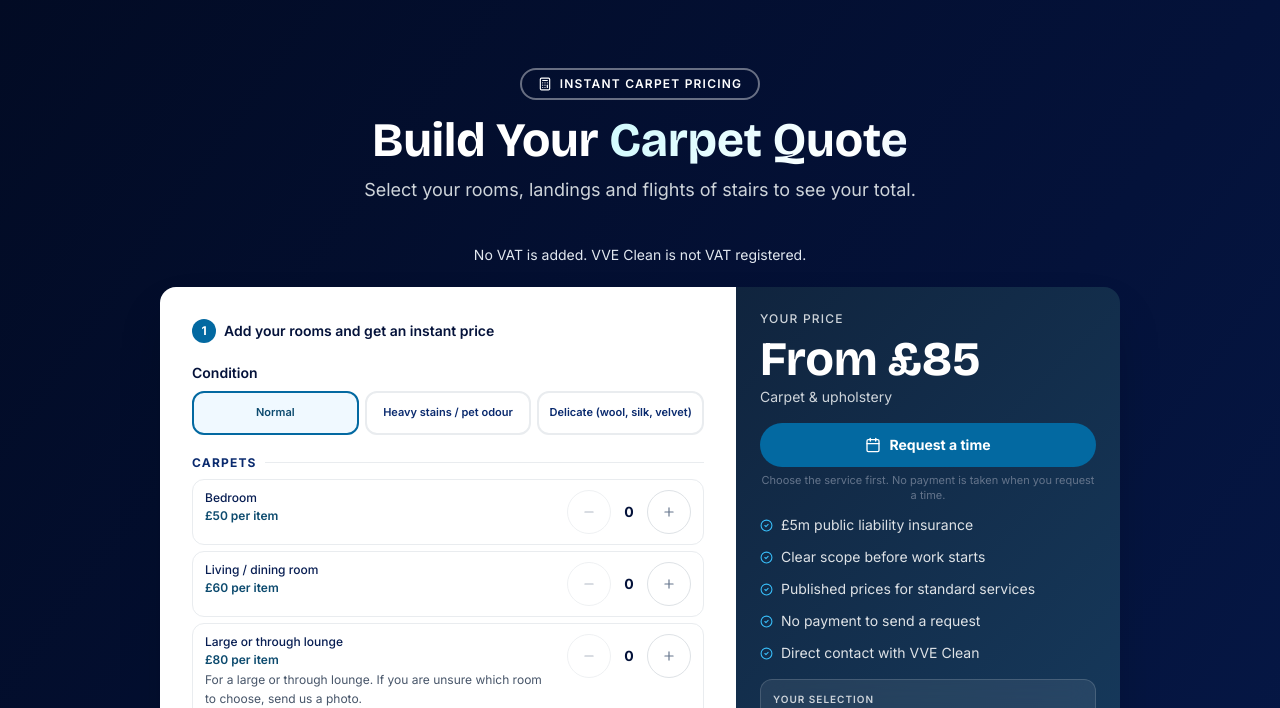
Test case: Carpet page quote — carpet plus upholstery › adds several upholstery items together
What coordinates should you click on to do the following:
click the button named "Increase Bedroom quantity"
I would click on:
 (669, 512)
Its box is 647,490 -> 691,534.
(page scrolled)
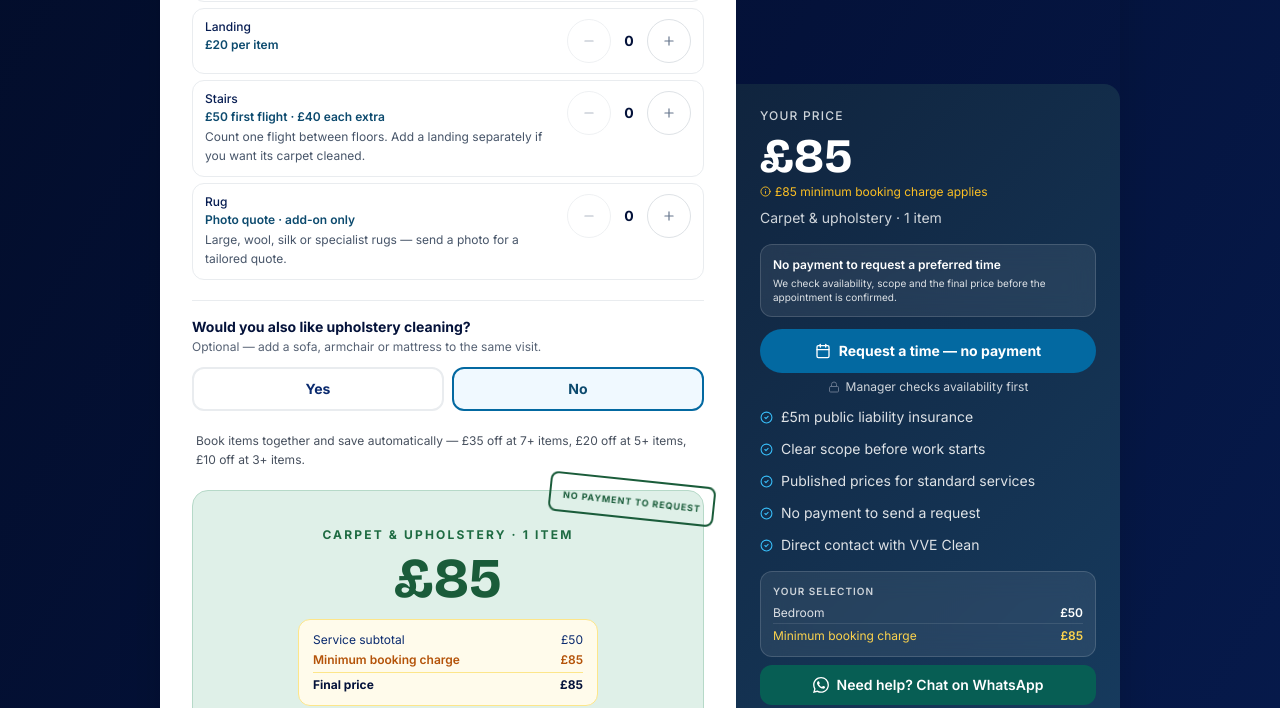
What coordinates should you click on to do the following:
click the button "Yes"
I would click on:
 (318, 389)
Its box is 192,367 -> 444,411.
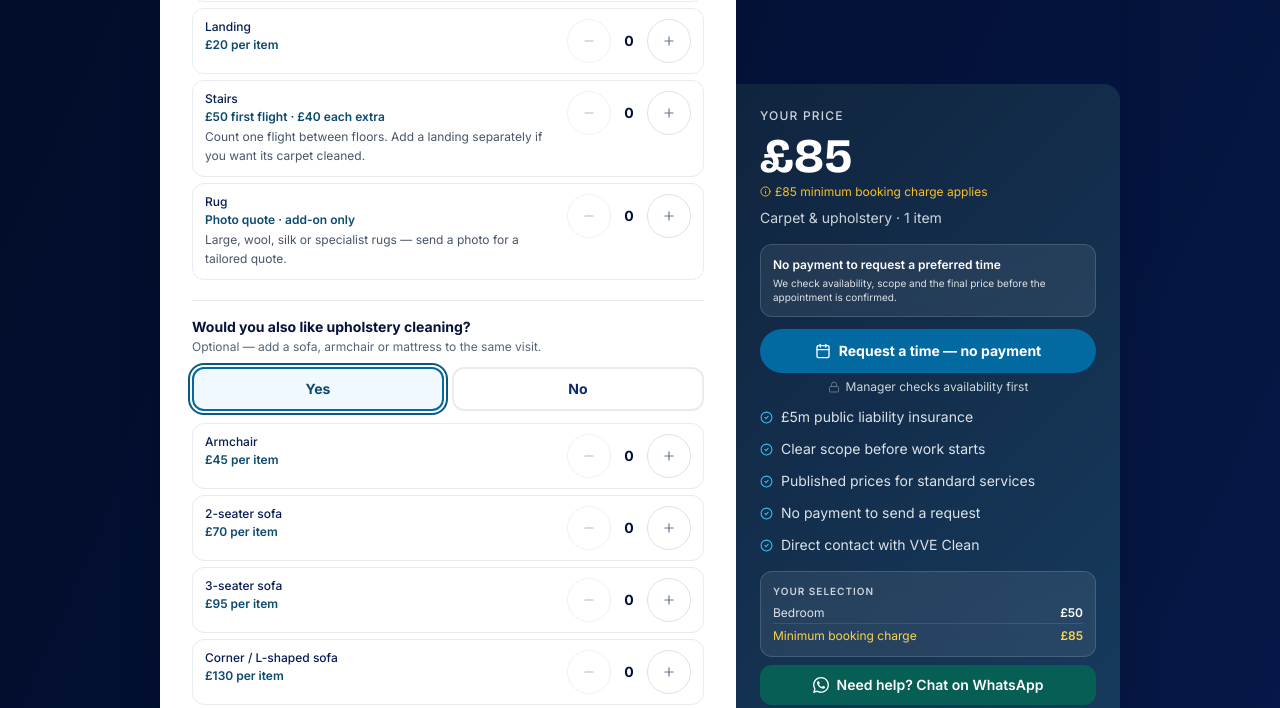
What coordinates should you click on to do the following:
click the button named "Increase Armchair quantity"
I would click on:
 (669, 456)
Its box is 647,434 -> 691,478.
(page scrolled)
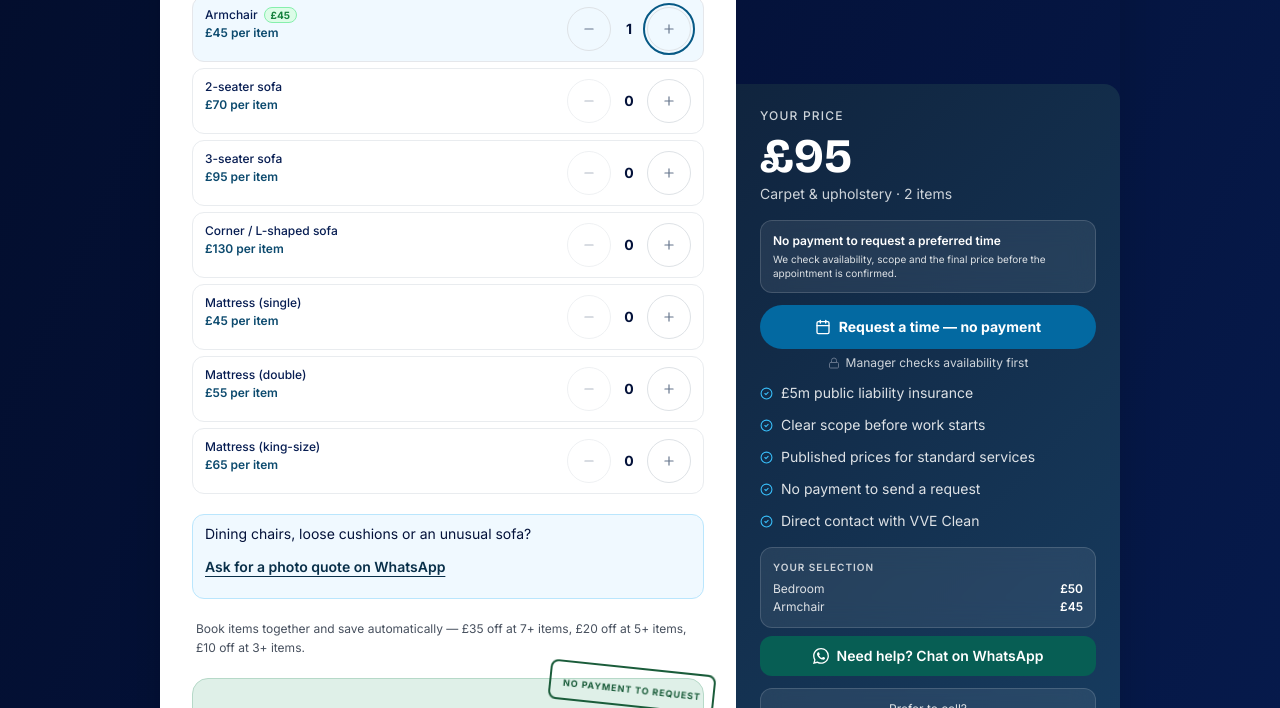
What coordinates should you click on to do the following:
click the button named "Increase Mattress (double) quantity"
I would click on:
 (669, 389)
Its box is 647,367 -> 691,411.
(page scrolled)
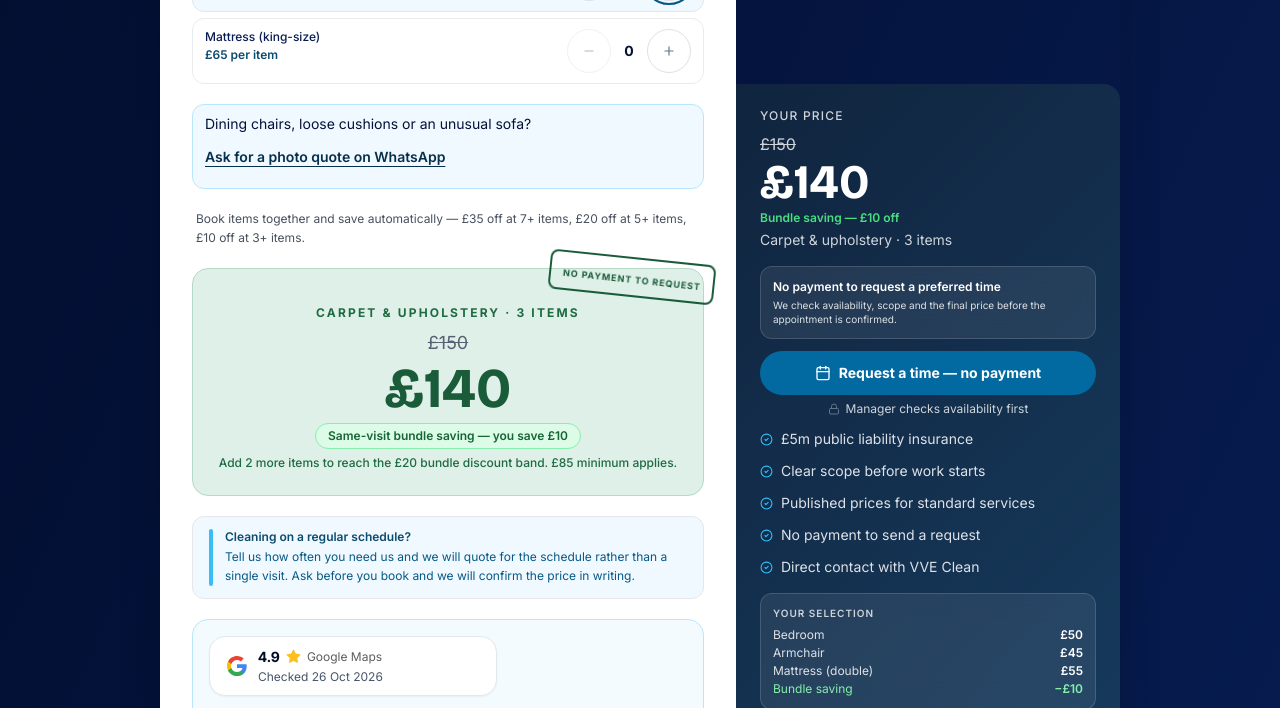
Check: the text "£140" below "£65 per item" is shown, box 385,354 -> 511,422
